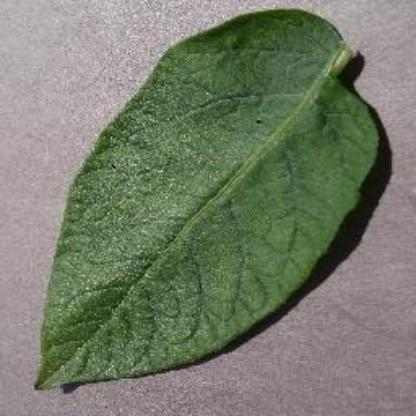Healthy-plant: (11, 8, 387, 398)
